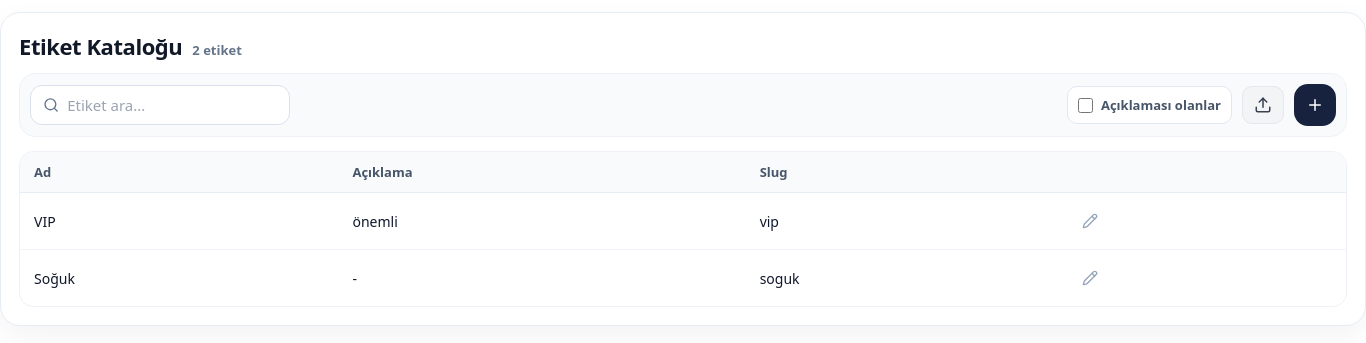
Test case: TagList › filters by search term
Expected: the text "VIP" is shown, [20,193,338,250]
Type "soğuk" into the field with placeholder "Etiket ara...".
click(172, 105); type("soğuk")  # box [67,86,277,124]
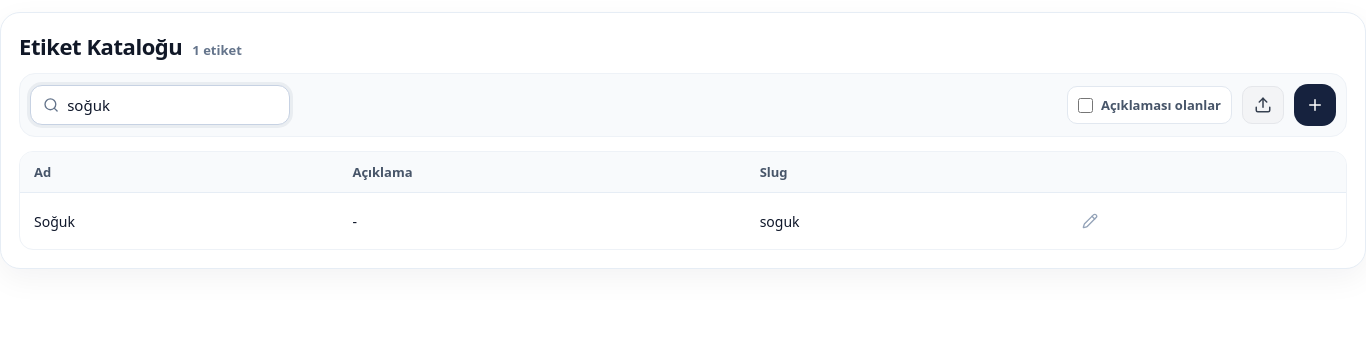
Now the text "VIP" is gone
